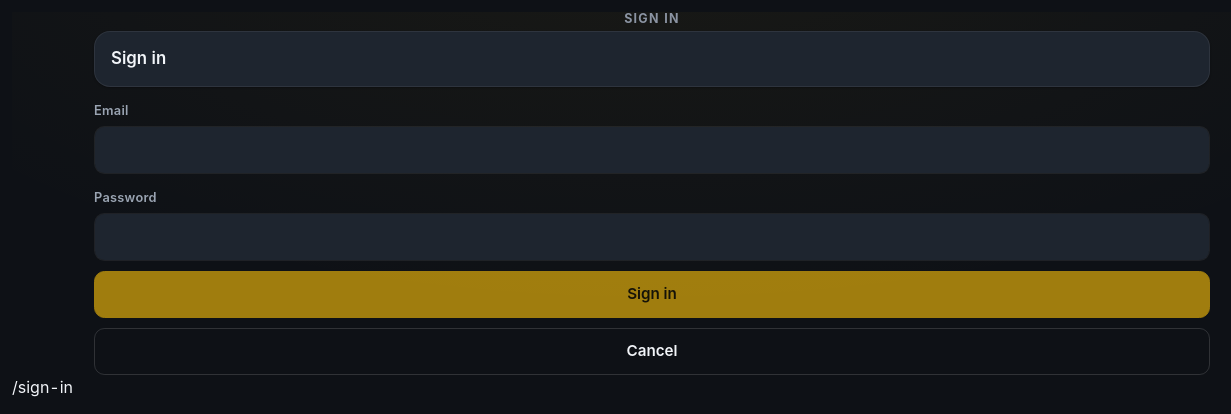
Test case: SignInScreen › goes back to /account when cancelled, without signing in
# Cancel navigates synchronously, so let the Router state settle.
What coordinates should you click on to do the following:
click the button "Cancel"
I would click on:
 (652, 351)
Its box is [94, 328, 1210, 375].
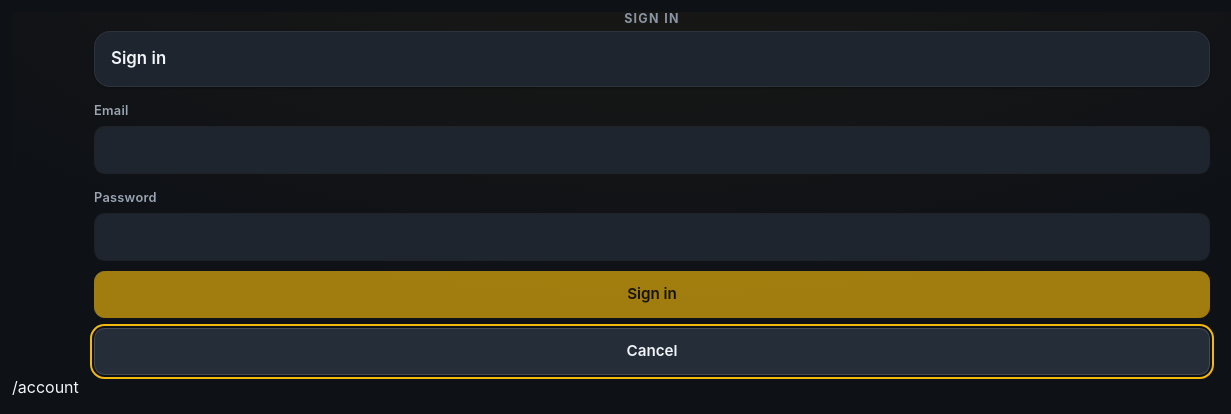
expect the text with test id "location" reads "/account": met, box [12, 377, 79, 397]
